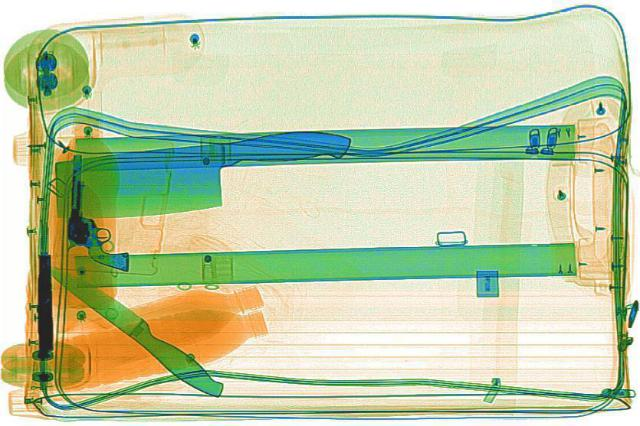Gun: (58, 153, 140, 269)
Knife: (42, 125, 362, 219), (31, 256, 236, 399)
